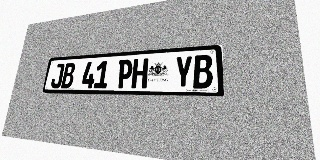1: (94, 61, 110, 88)
4: (81, 61, 97, 88)
B: (193, 54, 213, 88), (61, 63, 76, 88)
H: (131, 58, 149, 88)
J: (50, 63, 65, 88)
P: (116, 59, 133, 88)
Y: (174, 56, 193, 88)
